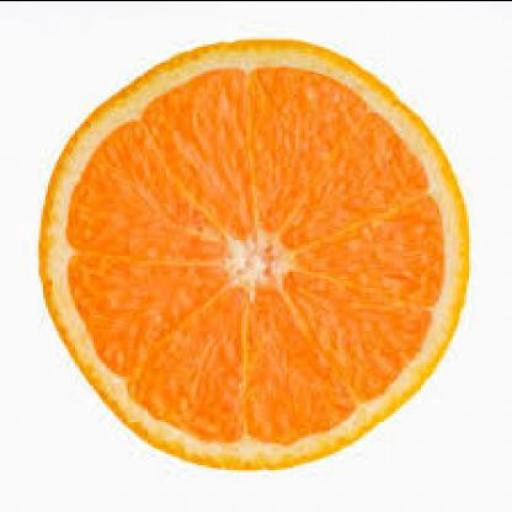biodegradable: (39, 40, 473, 474)
